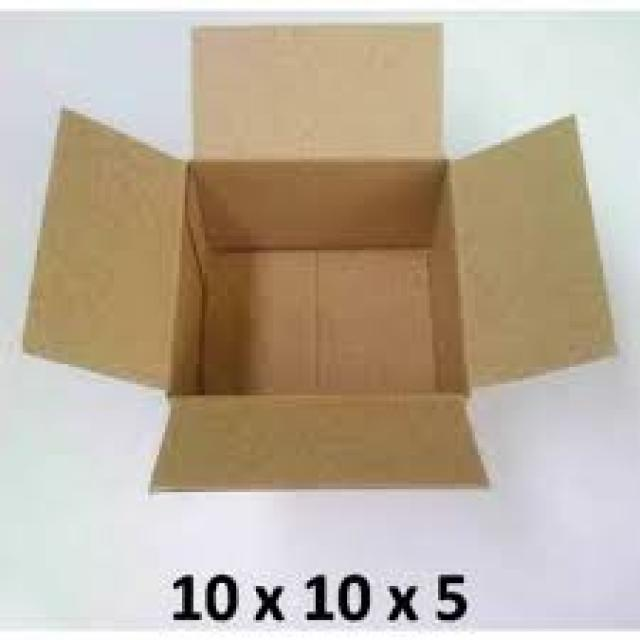Kardus kondisi bagus: (19, 20, 628, 499)
